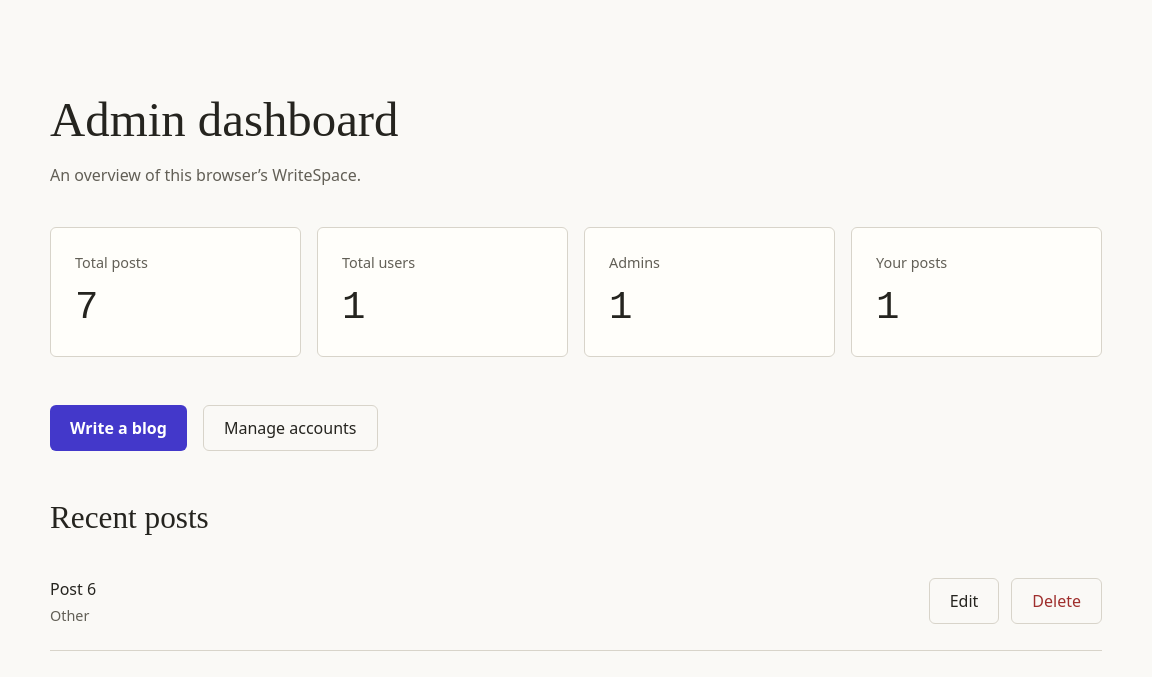
Test: AdminDashboard › cancellation stays on dashboard and successful deletion routes to blogs with current remaining posts
The image size is (1152, 677).
Click the button with aria-label "Delete Post 6". click: [1057, 602]
box: [1011, 578, 1102, 624]
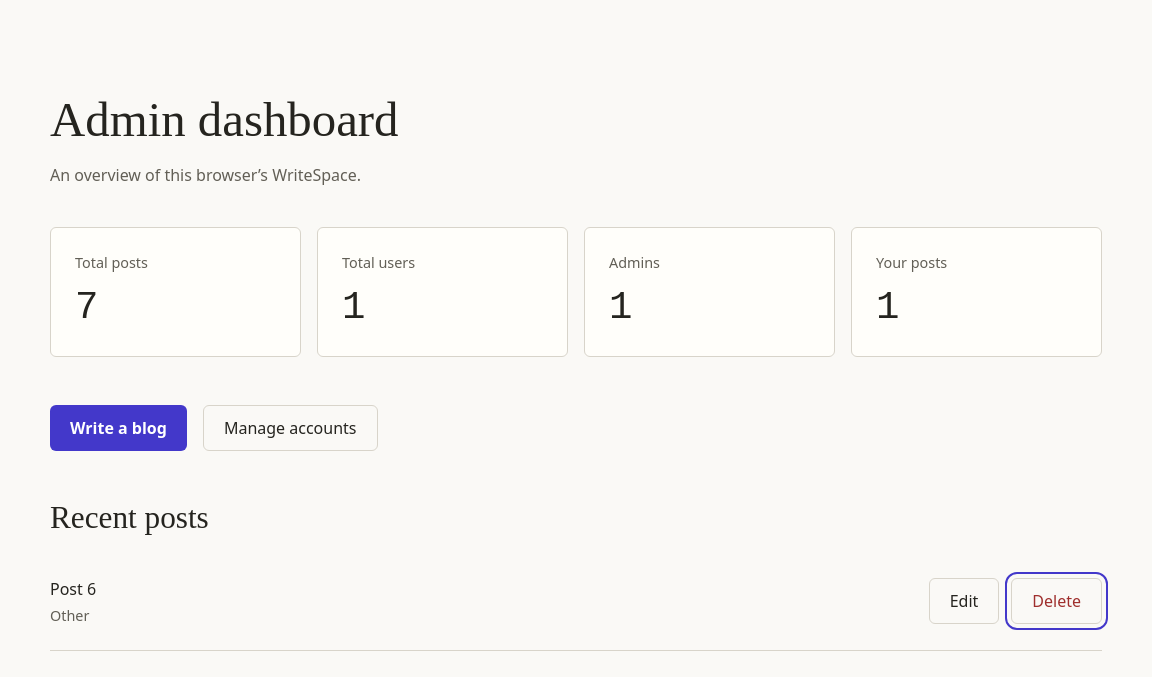
Expected: the heading "Admin dashboard" is shown, [50, 92, 398, 147]
Click the button with aria-label "Delete Post 6". click: [1057, 602]
box: [1011, 578, 1102, 624]
(page scrolled)
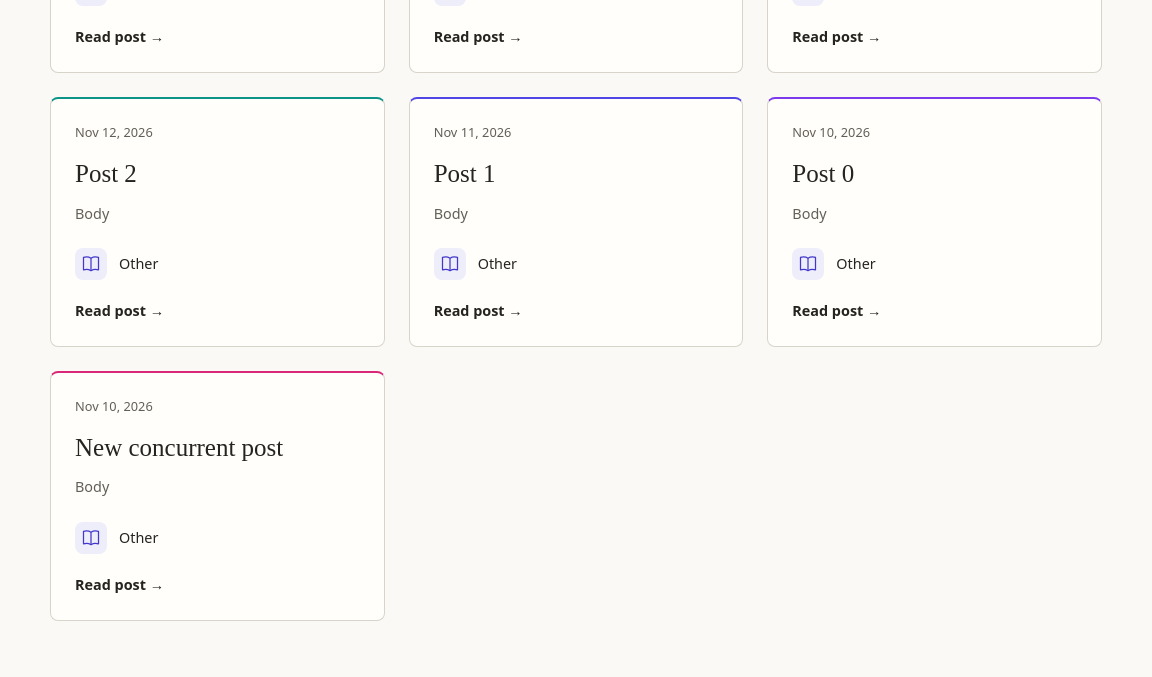
Result: the link "New concurrent post" is shown at [75, 434, 283, 461]
Result: the link "Post 6" is gone
Result: the heading "Admin dashboard" is gone
